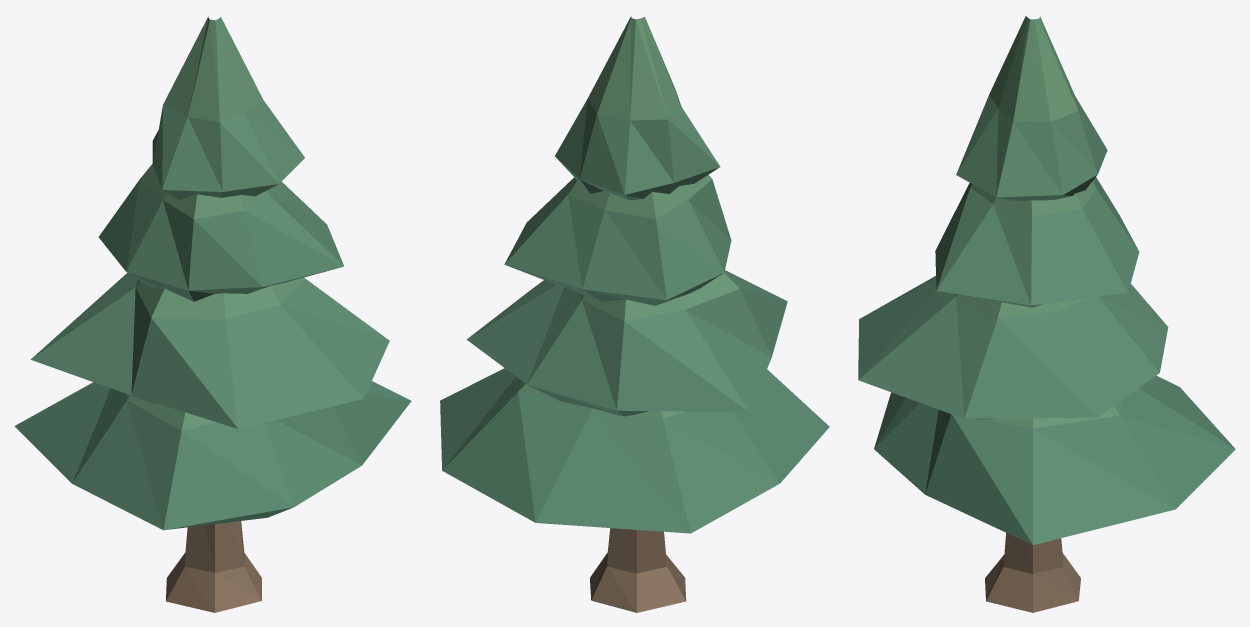
File: pilot_tree_b.glb
3 views of the same model, side by side, from view 1: azimuth 30°, elevation 25°; view 2: azimuth 150°, elevation 25°; view 3: azimuth 270°, elevation 25° (orthographic).
Parts seen in each view (by area): view 1: pilot_tree_b; view 2: pilot_tree_b; view 3: pilot_tree_b.
Part boxes in pixels (x1=…): pilot_tree_b: x1=14, y1=16, x2=411, y2=612; pilot_tree_b: x1=440, y1=16, x2=829, y2=612; pilot_tree_b: x1=858, y1=16, x2=1235, y2=612.
Size of the model in its own units: 3.59 by 5.7 by 3.41.
